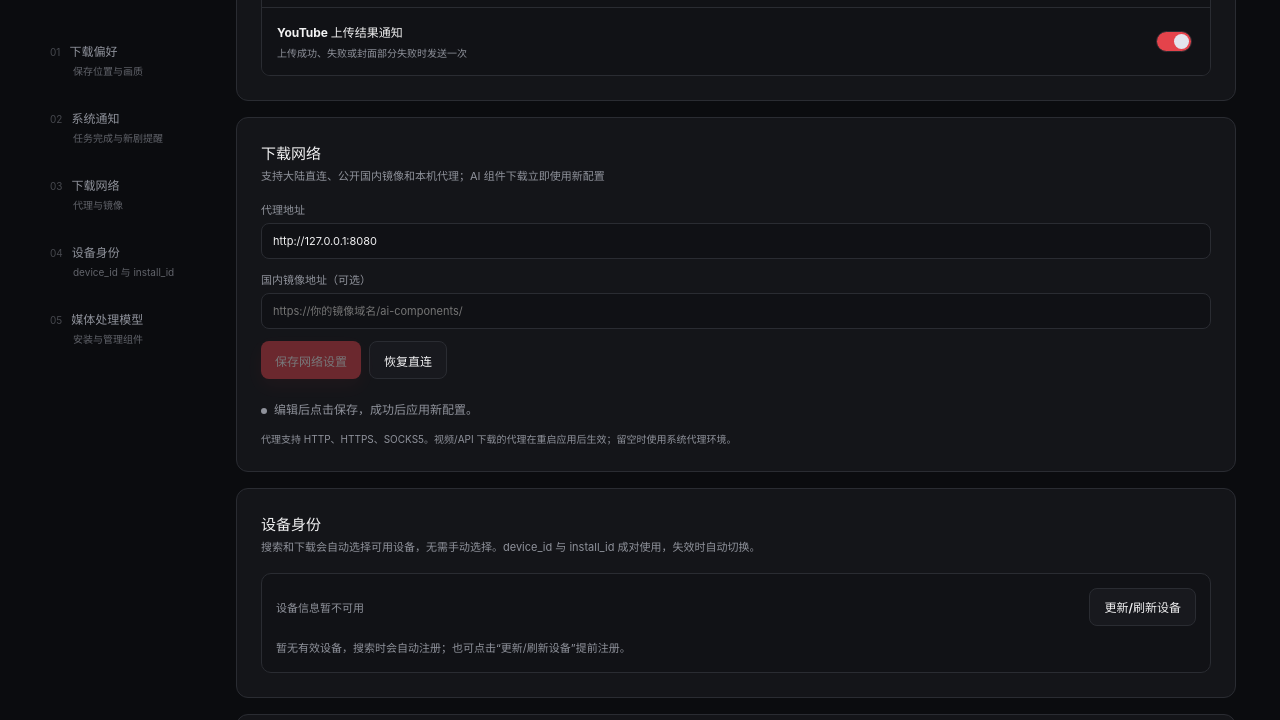
Test: settings save feedback › keeps a failed restore to direct connection editable and retryable
This screenshot has width=1280, height=720.
(page scrolled)
Step 1. Click the button "恢复直连" → (408, 360), box [369,341,447,379]
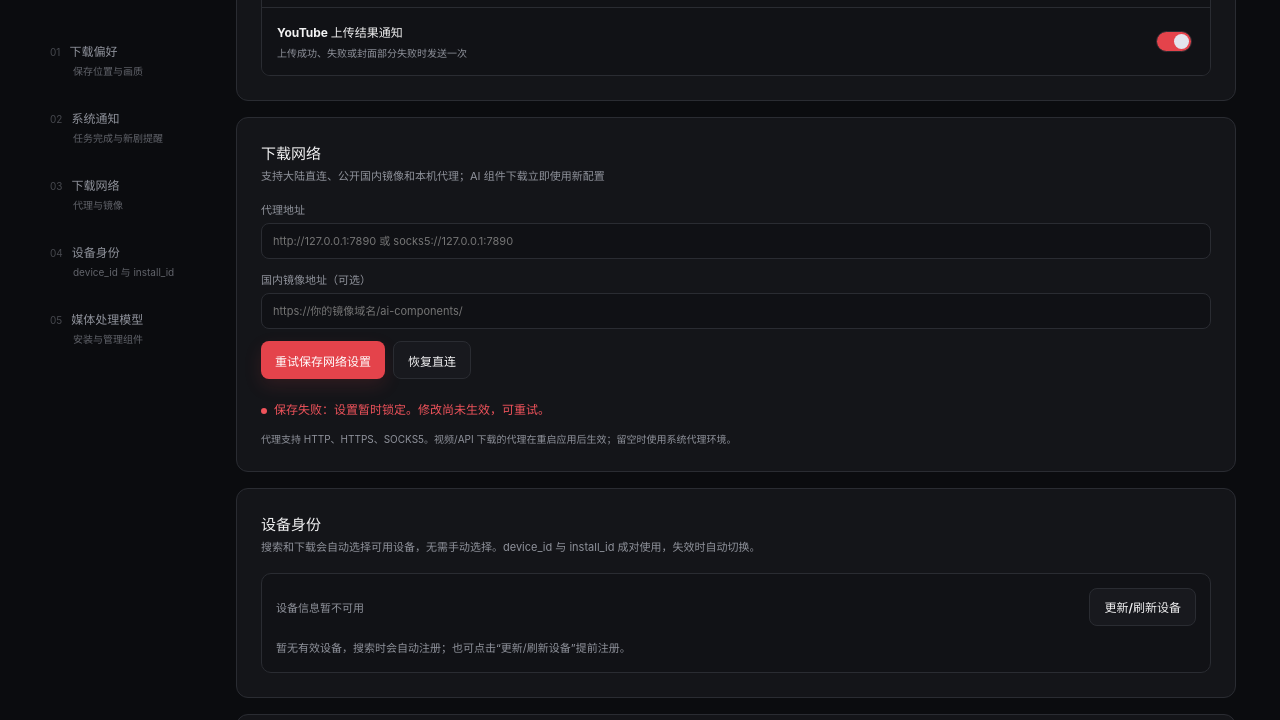
Step 2. Click the button "重试保存网络设置" → (323, 360), box [261,341,385,379]
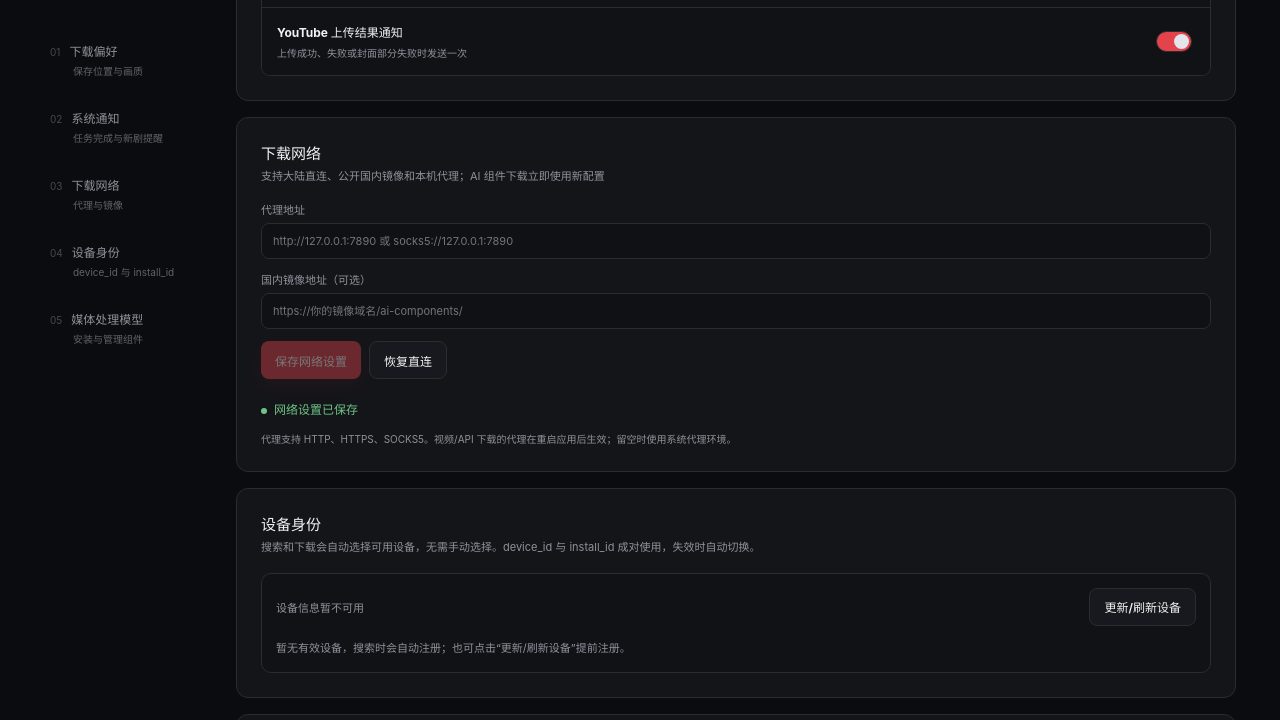
Now the field labelled "代理地址" is empty, box [261,223,1211,259]
Now the text "网络设置已保存" is shown, box [261,402,358,417]
